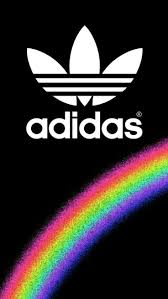adidas: (26, 27, 143, 139)
